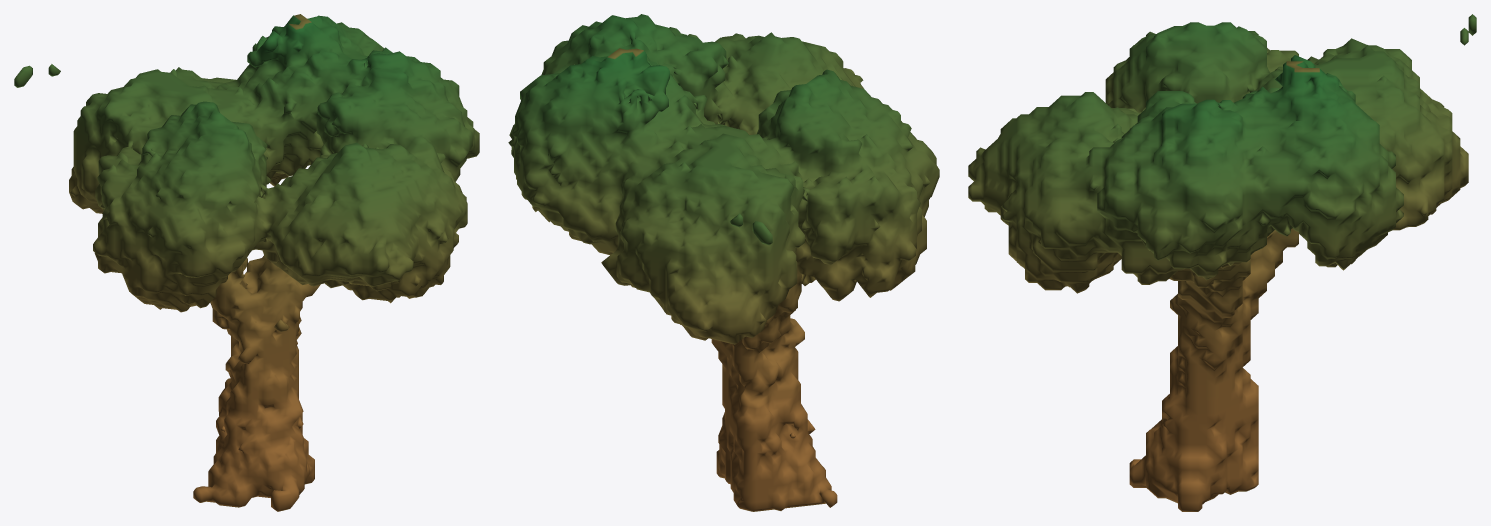
Rendered from gen10_colored.obj.
The picture shows the model from 3 angles, left to right: view 1: azimuth 30°, elevation 25°; view 2: azimuth 150°, elevation 25°; view 3: azimuth 270°, elevation 25°; orthographic projection. The views are drawn at different scales.
Bounding box in the file's own units: 57 × 64 × 63.
Materials: 1 (1 with a texture image).
